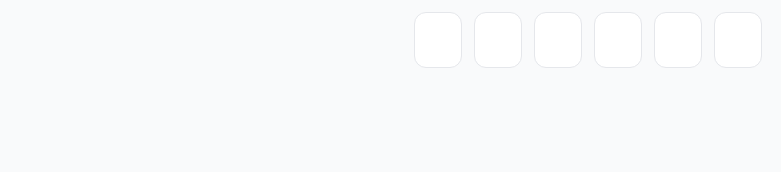
Test: OtpInput › digitar atualiza o pai sem setState durante a renderização
Click the field named "Dígito 1 de 6". click: click(438, 40)
box: [414,12,462,68]
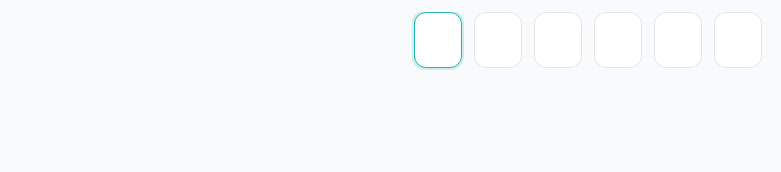
Type keys "123456"
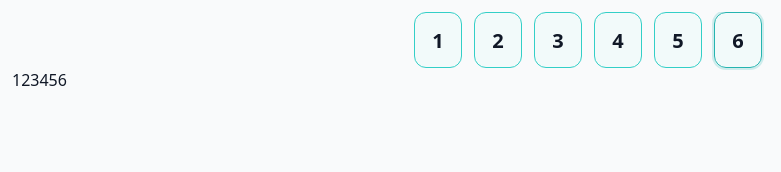
Check: the text with test id "valor" reads "123456", box [12,69,67,91]
